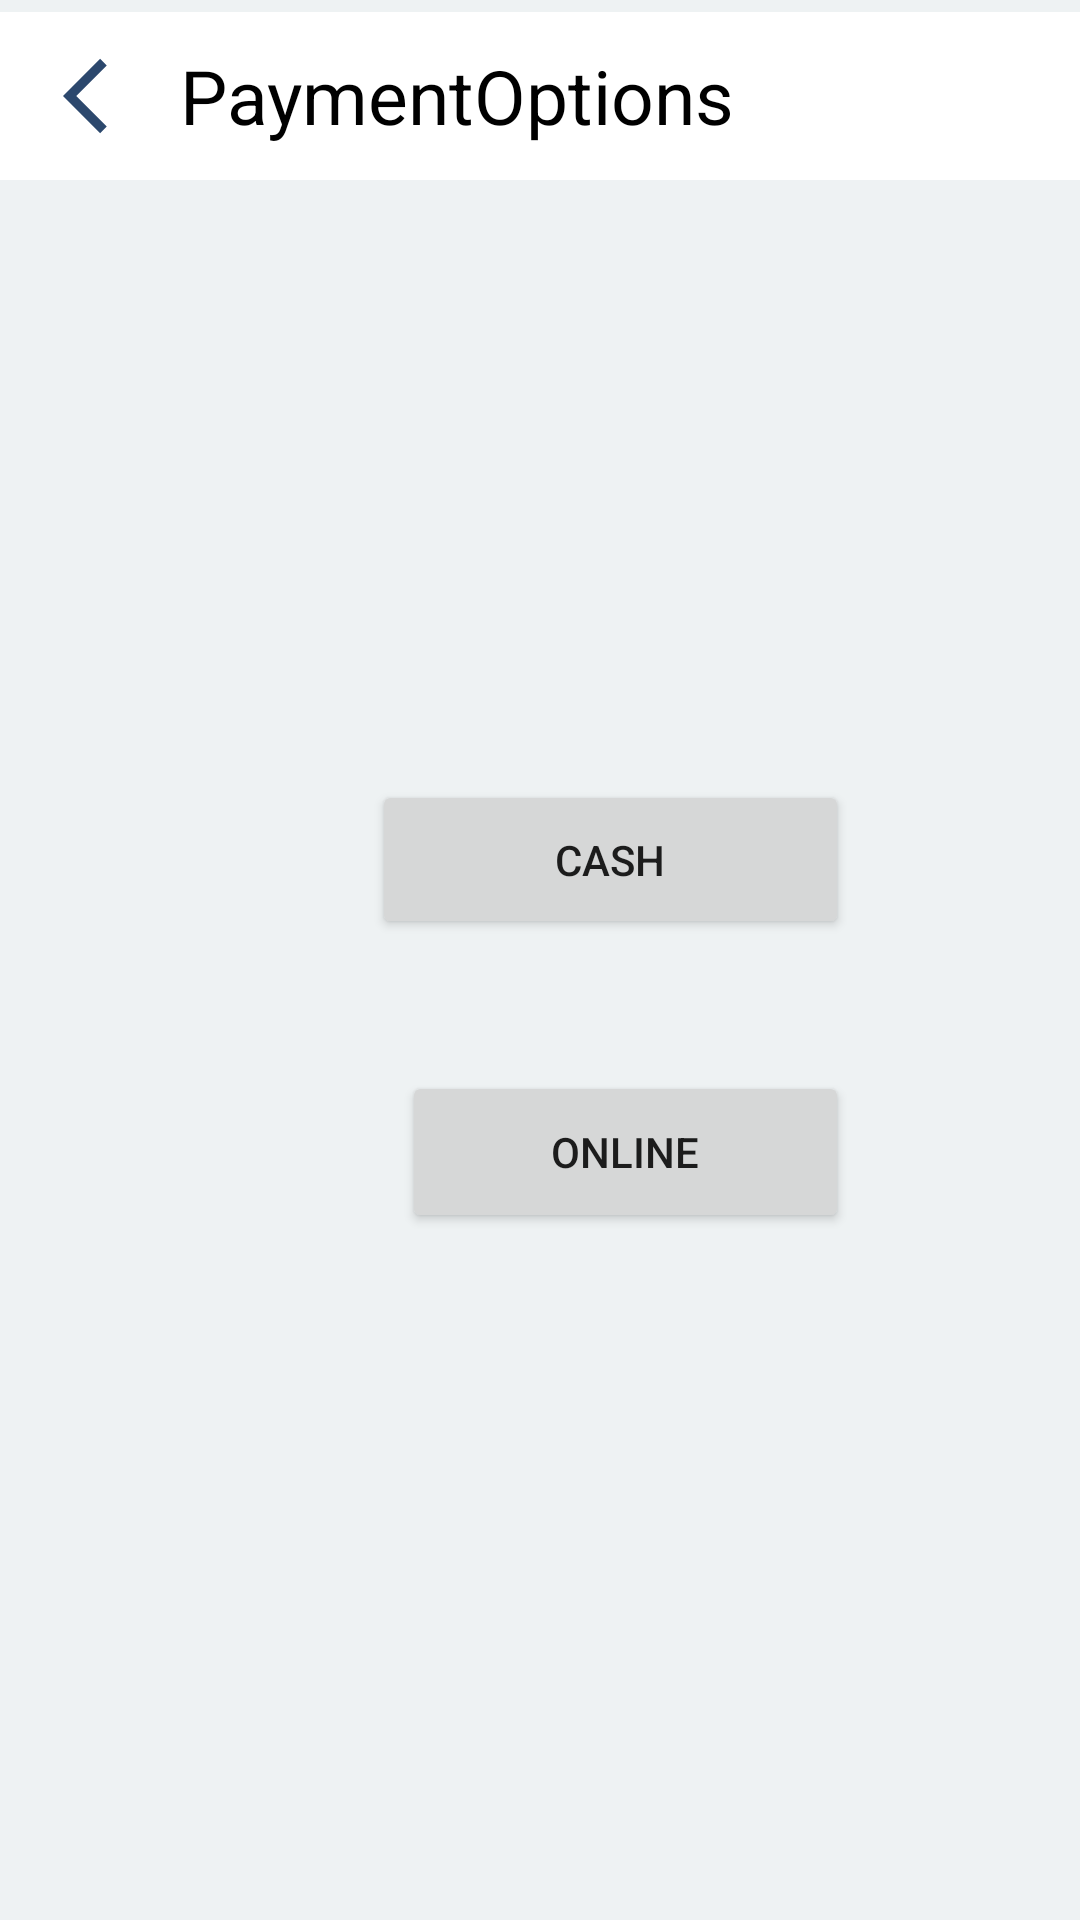

Where icons sit on this 1080px x 1920px app screen, as (x1=x1, y1=y1, x2=x2, y2=y2):
arrow back: (x1=63, y1=59, x2=107, y2=133)
